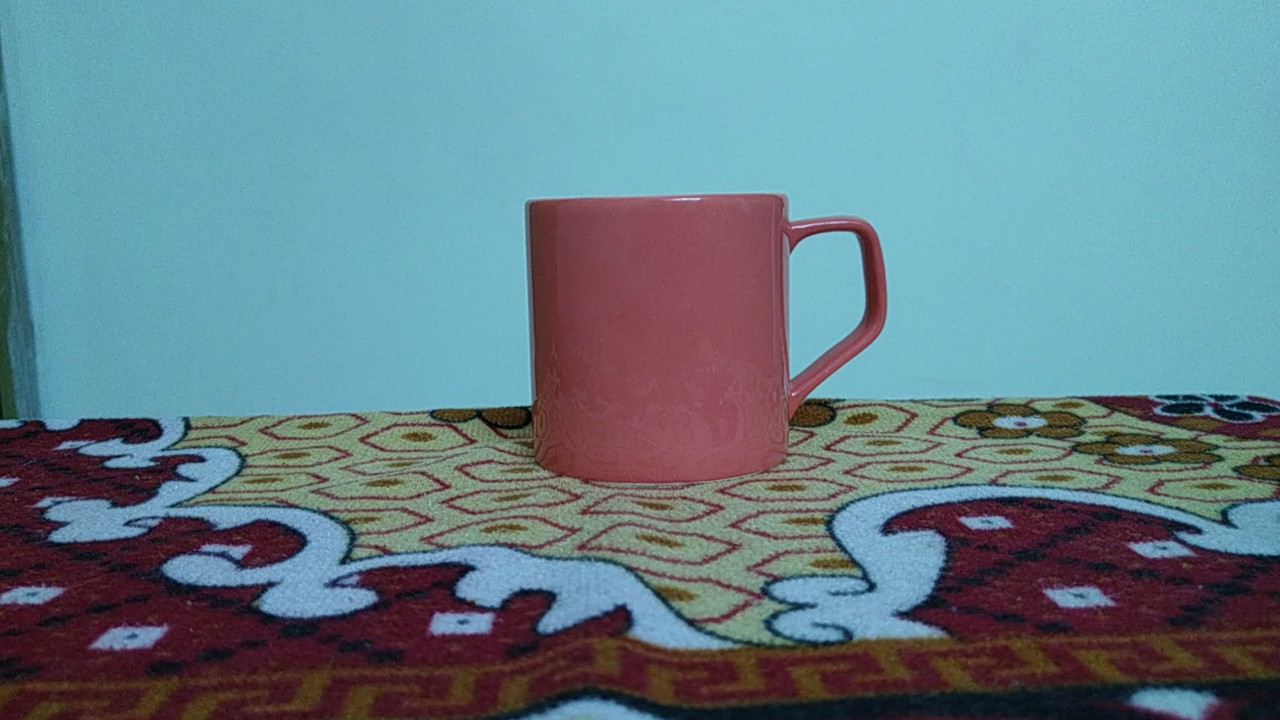cup: (495, 173, 906, 511)
